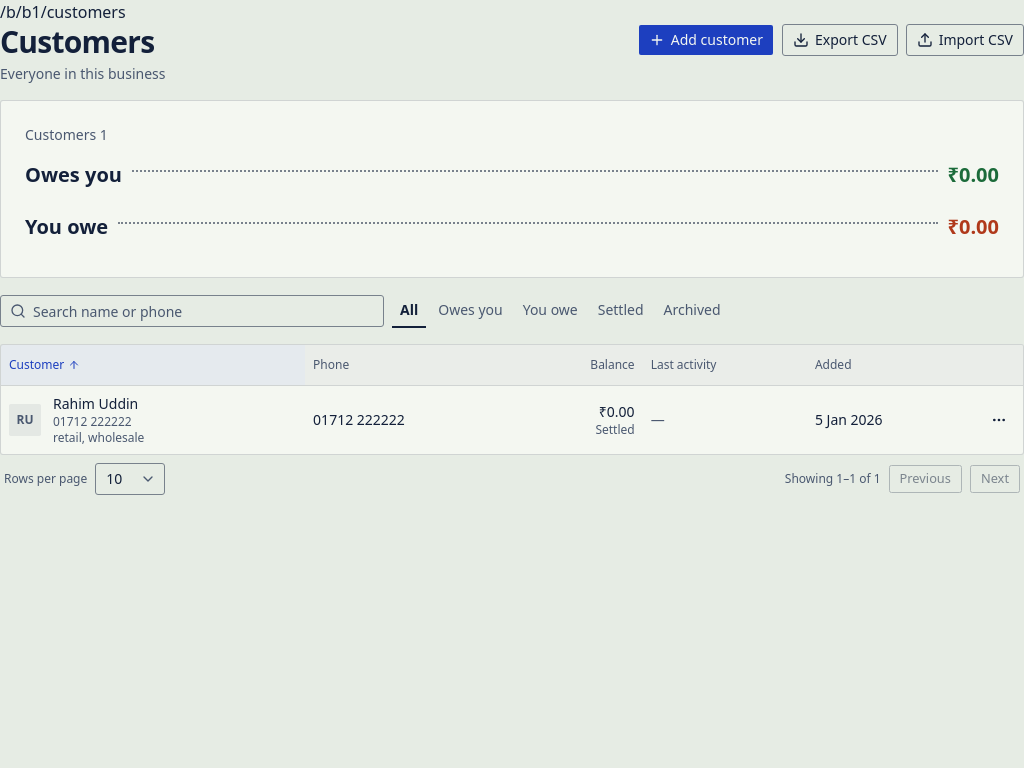
S-29 customer form › edit: pre-fills the row, saves through update, and the list refreshes
The image size is (1024, 768).
Expected: the text "Rahim Uddin" is shown, [53, 394, 144, 414]
Click the button named "Actions for Rahim Uddin".
click(999, 420)  # box [983, 404, 1015, 436]
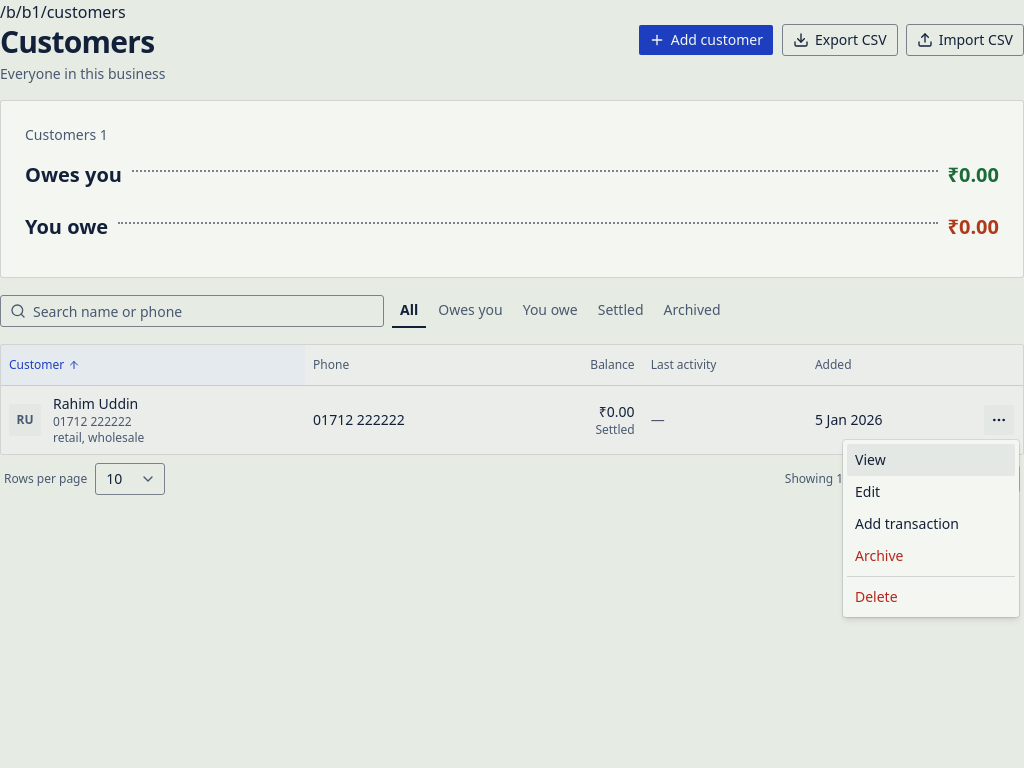
Click the menu item "Edit".
click(931, 492)  # box [847, 476, 1015, 508]
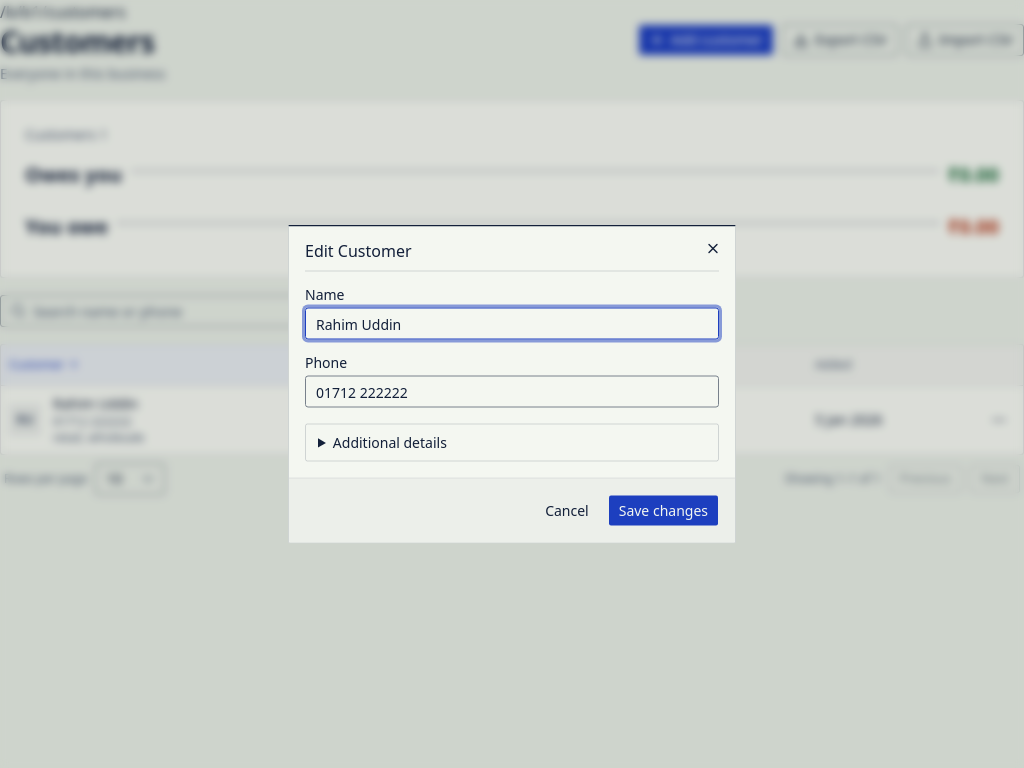
Result: the heading "Edit Customer" is shown at [305, 240, 412, 262]
Result: the field labelled "Name" holds "Rahim Uddin"
Result: the element named "Tags" holds "retail, wholesale" at [305, 424, 719, 462]
Replace the text in the field labelled "Name" with "Rahim Chowdhury" at (512, 324), box [305, 308, 719, 340]
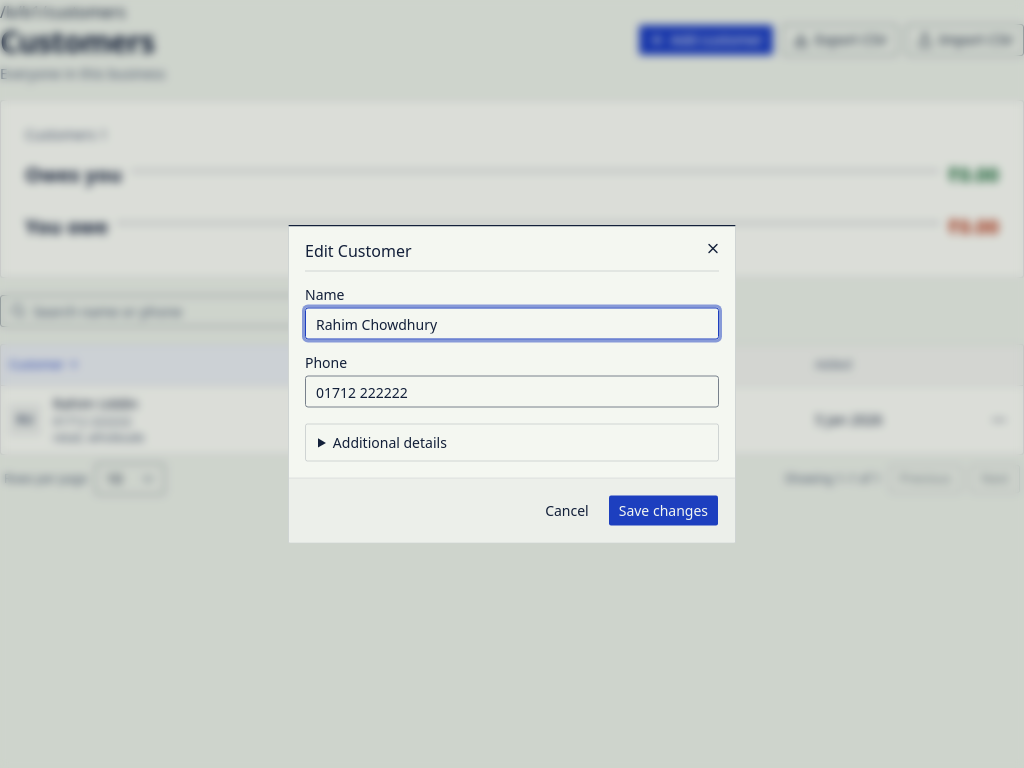
Click the button "Save changes".
click(663, 510)  # box [608, 494, 719, 526]
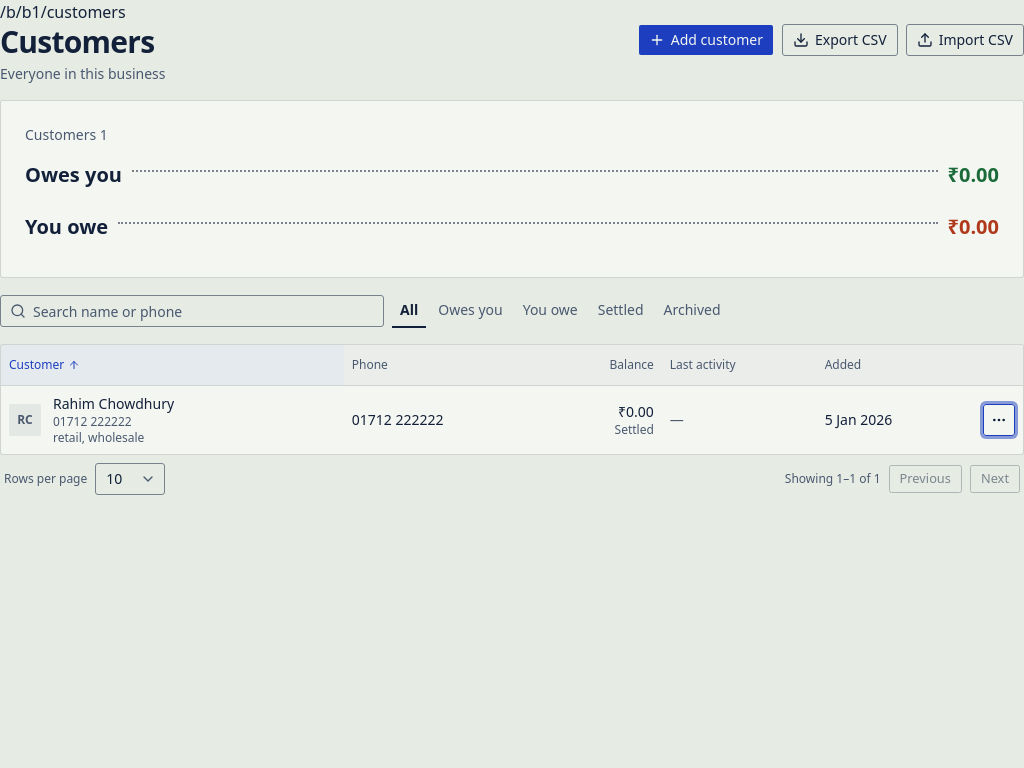
Result: the dialog is gone
Result: the text "Rahim Chowdhury" is shown at [53, 394, 174, 414]
Result: the text "Rahim Uddin" is gone
